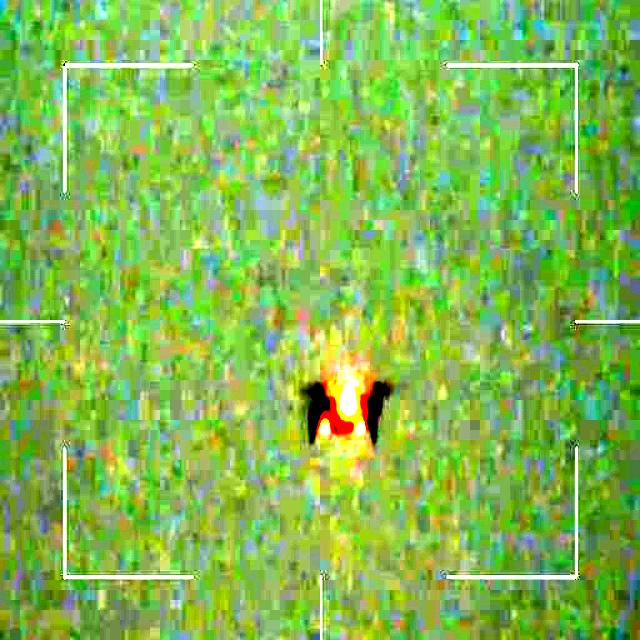bird: (301, 368, 391, 444)
